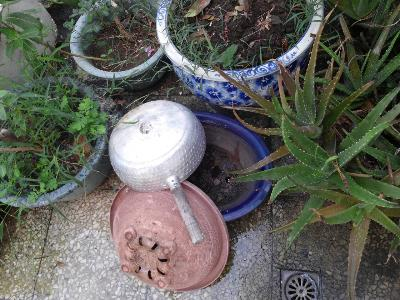bowl: (106, 178, 230, 291), (189, 110, 273, 223), (107, 99, 208, 192)
